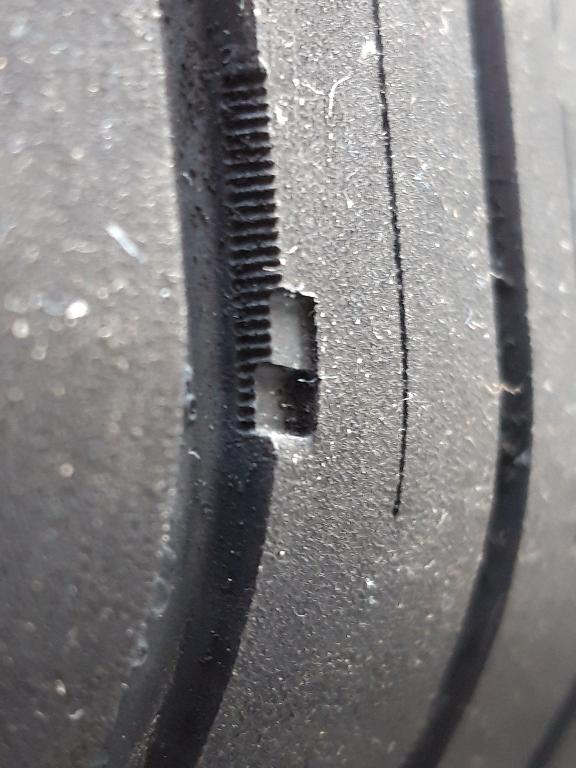temoin:25: (212, 276, 332, 450)
